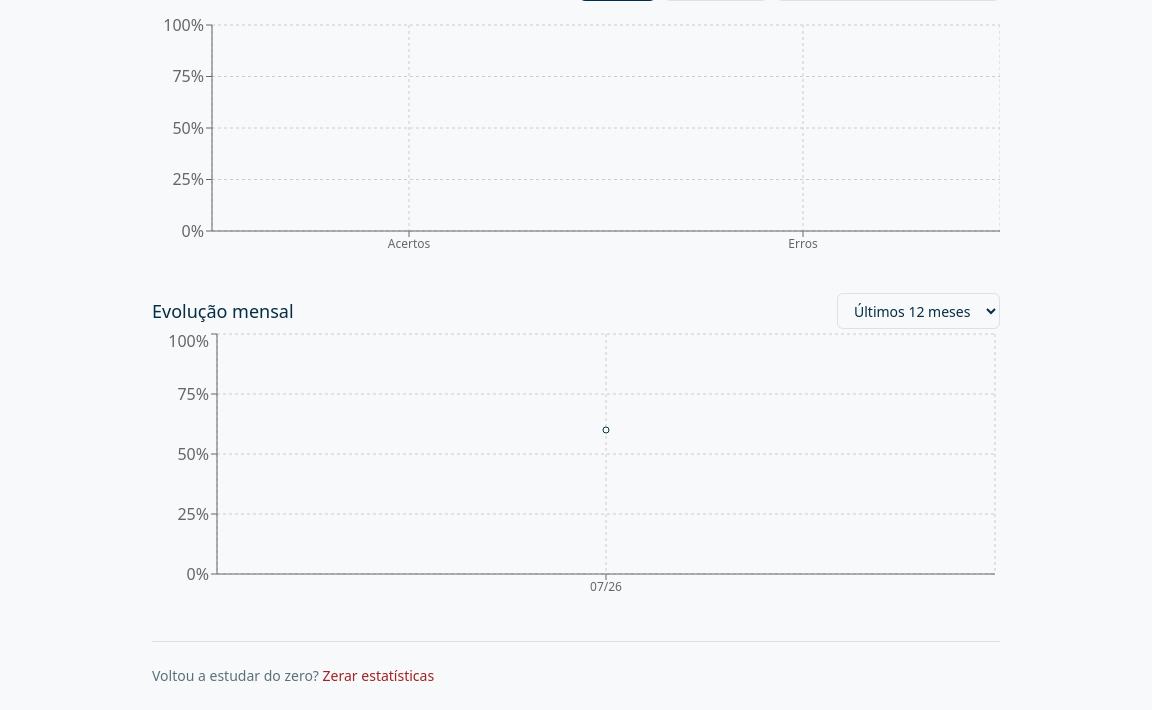
Test: PerformancePage › reset de estatísticas: senha errada mostra erro de campo
The width and height of the screenshot is (1152, 710).
(page scrolled)
Click the button "Zerar estatísticas" at (378, 676), box [323,666,434,686]
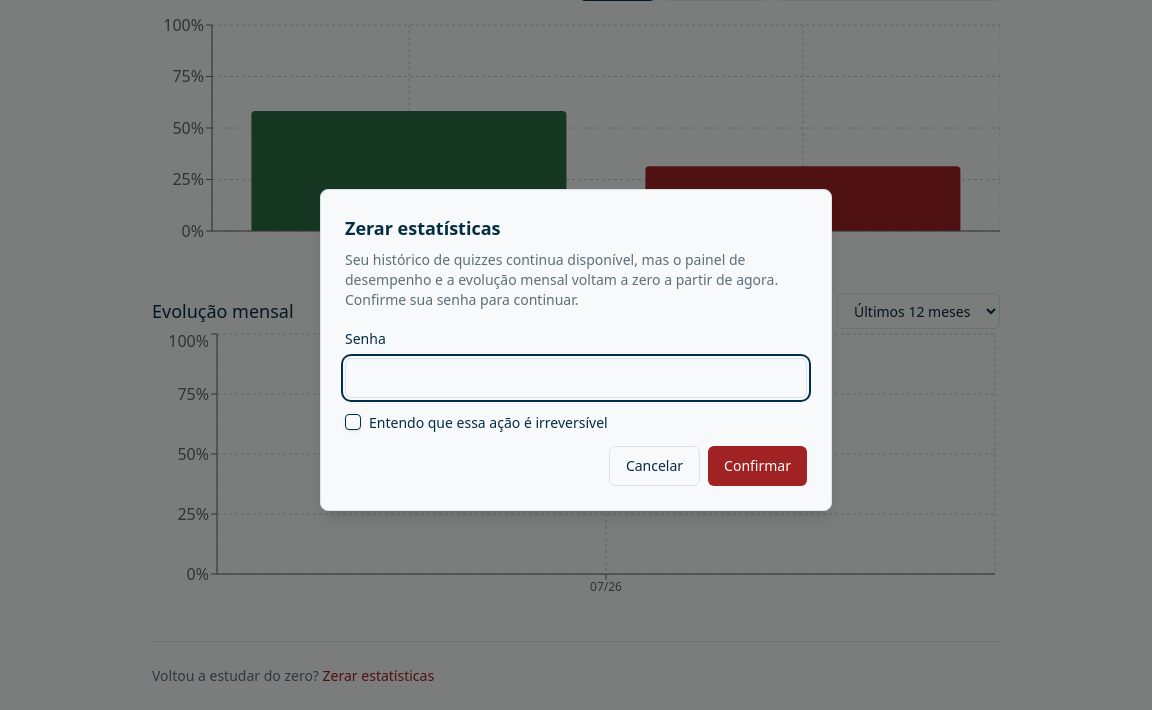
Type "SenhaErrada123" into the password field labelled "Senha" at (576, 378), box [345,358,807,398]
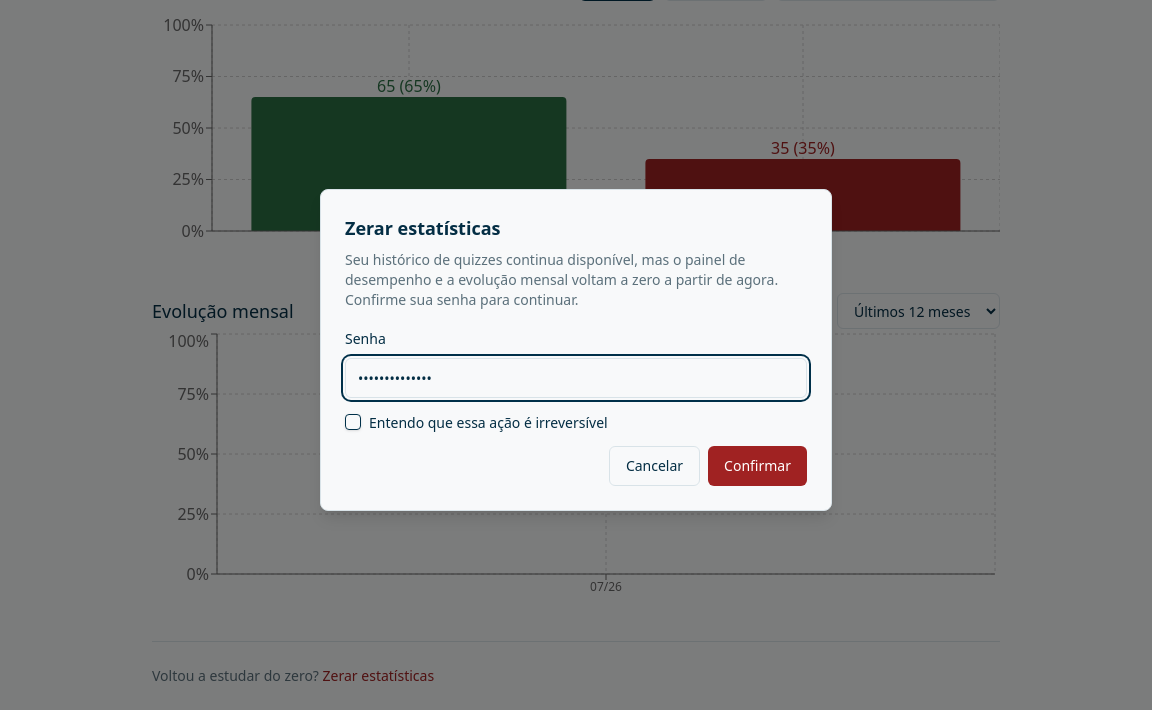
Click the checkbox at (353, 422), box [345,414,361,430]
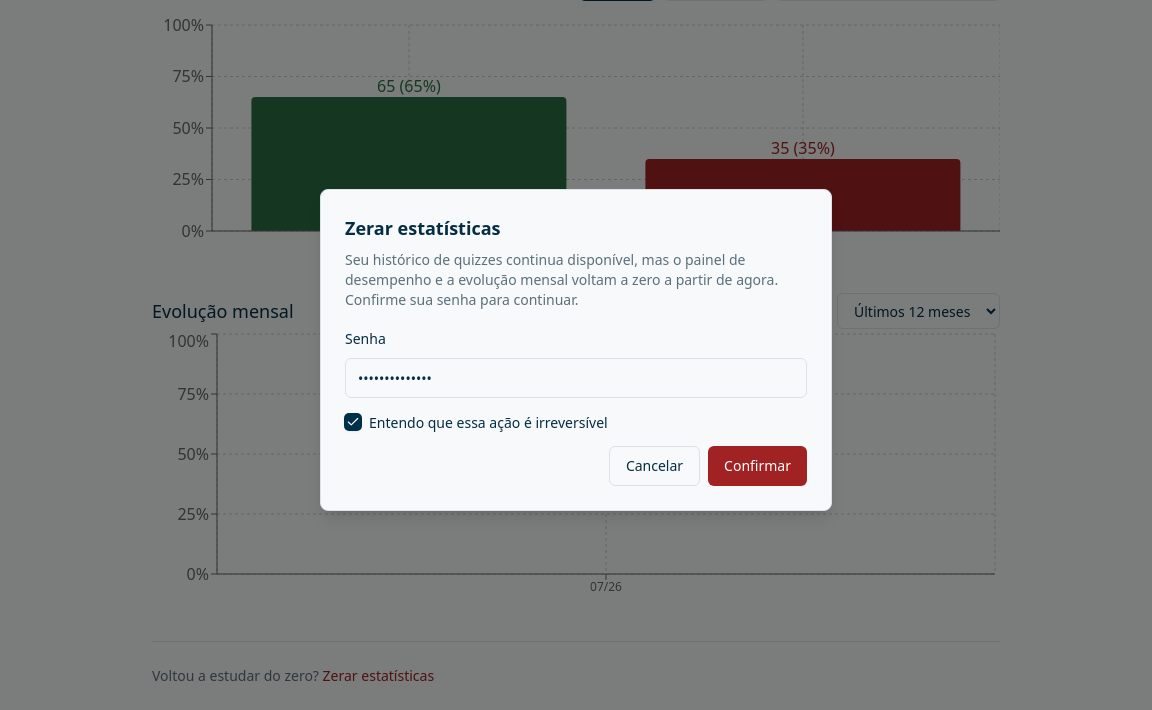
Click the button "Confirmar" at (758, 466), box [708,446,807,486]
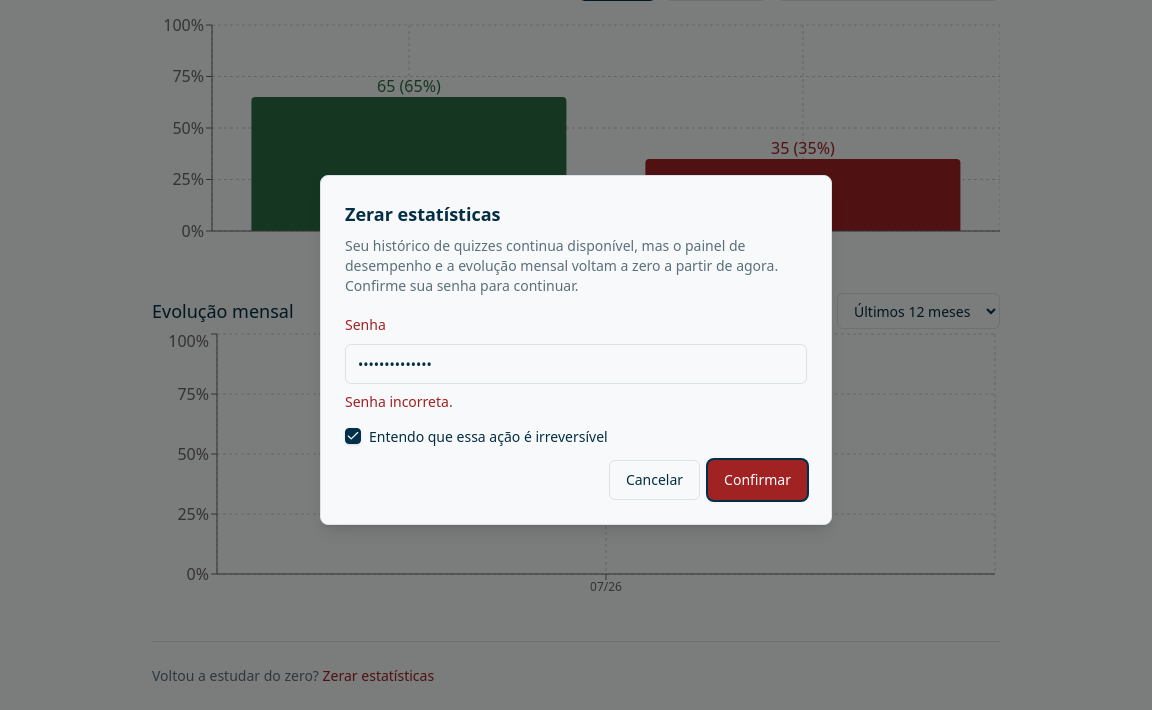
Result: the text "Senha incorreta." is shown at [345,392,453,411]
